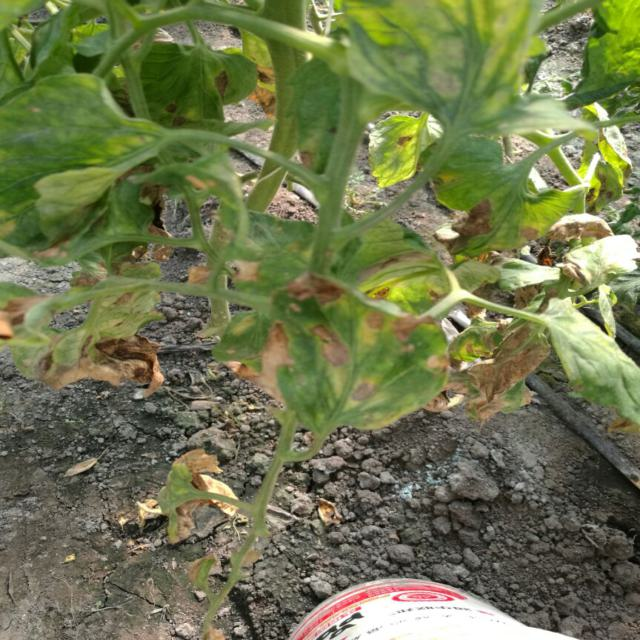Late_blight: (445, 316, 553, 428), (31, 319, 164, 397), (158, 448, 239, 542), (220, 321, 296, 410), (120, 161, 174, 270), (273, 270, 349, 317), (436, 197, 494, 251), (357, 244, 432, 281), (1, 290, 45, 344), (551, 209, 615, 245), (308, 321, 354, 370), (243, 59, 279, 117), (509, 281, 558, 315), (395, 308, 436, 348), (558, 252, 594, 287), (460, 284, 494, 319), (74, 259, 106, 288), (345, 378, 379, 405), (228, 257, 262, 283), (213, 64, 230, 103), (363, 309, 386, 332), (186, 260, 206, 285), (424, 285, 448, 305), (298, 146, 318, 169), (372, 283, 392, 304), (520, 224, 539, 241), (397, 132, 413, 150)
